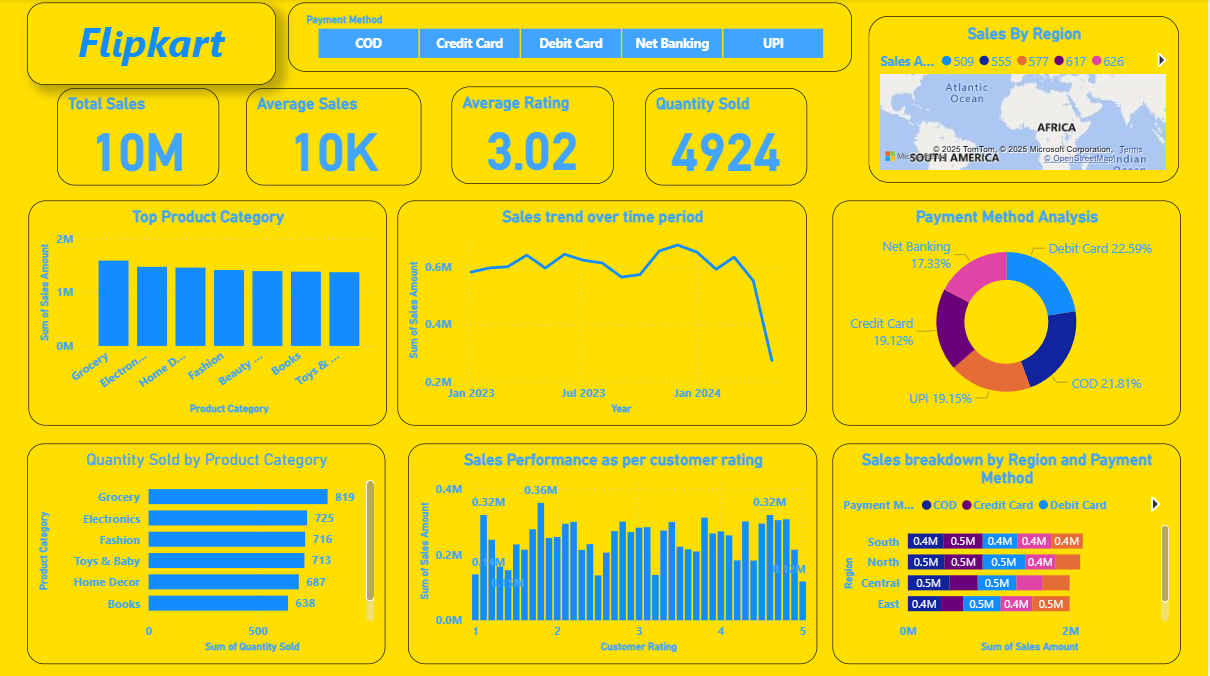

What the dashboard file says about the page in this screenshot:
{"tool":"powerbi","page":{"name":"Page 1","canvas":[1280,720],"ordinal":0},"visuals":[{"type":"card","title":"Total Sales","fields":{"Values":["Sum(Sheet1.Sales Amount)"]},"box":[60.4,95.4,171.8,103.4],"z":0},{"type":"card","title":"Average Sales","fields":{"Values":["Avg(Sheet1.Sales Amount)"]},"box":[260.9,95.4,186.1,103.4],"z":1000},{"type":"card","title":"Average Rating","fields":{"Values":["Avg(Sheet1.Customer Rating)"]},"box":[478.8,93.8,171.8,103.4],"z":2000},{"type":"card","title":"Quantity Sold","fields":{"Values":["Sum(Sheet1.Quantity Sold)"]},"box":[684,95.4,171.8,103.4],"z":3000},{"type":"filledMap","title":"Sales By Region","fields":{"Category":["Sheet1.Region"],"Series":["Sheet1.Sales Amount"]},"box":[921,19.1,329.3,176.6],"z":4000},{"type":"columnChart","title":"Top Product Category","fields":{"Category":["Sheet1.Product Category"],"Y":["Sum(Sheet1.Sales Amount)"]},"box":[30.2,214.7,380.2,238.6],"z":5000},{"type":"lineChart","title":"Sales trend over time period","fields":{"Category":["Sheet1.Order Date.Variation.Date Hierarchy.Year","Sheet1.Order Date.Variation.Date Hierarchy.Quarter","Sheet1.Order Date.Variation.Date Hierarchy.Month","Sheet1.Order Date.Variation.Date Hierarchy.Day"],"Y":["Sum(Sheet1.Sales Amount)"]},"box":[421.5,214.7,434.2,238.6],"z":6000},{"type":"donutChart","title":" Payment Method Analysis","fields":{"Category":["Sheet1.Payment Method"],"Y":["Sum(Sheet1.Sales Amount)"]},"box":[882.8,214.7,369,238.6],"z":7000},{"type":"barChart","title":" Quantity Sold by Product Category","fields":{"Category":["Sheet1.Product Category"],"Y":["Sum(Sheet1.Quantity Sold)"]},"box":[28.6,472.4,380.2,233.8],"z":8000},{"type":"clusteredColumnChart","title":"Sales Performance as per customer rating","fields":{"Category":["Sheet1.Customer Rating"],"Y":["Sum(Sheet1.Sales Amount)"]},"box":[432.6,472.4,434.2,233.8],"z":9000},{"type":"barChart","title":"Sales breakdown by Region and Payment Method","fields":{"Y":["Sum(Sheet1.Sales Amount)"],"Category":["Sheet1.Region"],"Series":["Sheet1.Payment Method"]},"box":[882.8,472.4,369,233.8],"z":10000},{"type":"slicer","fields":{"Values":["Sheet1.Payment Method"]},"box":[305.4,4.8,598.1,73.2],"z":11000},{"type":"textbox","box":[28.6,4.8,264,87.5],"z":12000}]}

Visuals, with their boxes in screenshot pixels (x1, y1, x2, y2), scaled from the page's 1280x720 canvas onto the 1210x676 screenshot:
"Total Sales" card: rect(57, 90, 220, 187)
"Average Sales" card: rect(247, 90, 423, 187)
"Average Rating" card: rect(453, 88, 615, 185)
"Quantity Sold" card: rect(647, 90, 809, 187)
"Sales By Region" filledMap: rect(871, 18, 1182, 184)
"Top Product Category" columnChart: rect(29, 202, 388, 426)
"Sales trend over time period" lineChart: rect(398, 202, 809, 426)
" Payment Method Analysis" donutChart: rect(835, 202, 1183, 426)
" Quantity Sold by Product Category" barChart: rect(27, 444, 386, 663)
"Sales Performance as per customer rating" clusteredColumnChart: rect(409, 444, 819, 663)
"Sales breakdown by Region and Payment Method" barChart: rect(835, 444, 1183, 663)
slicer - Sheet1.Payment Method: rect(289, 5, 854, 73)
textbox: rect(27, 5, 277, 87)
